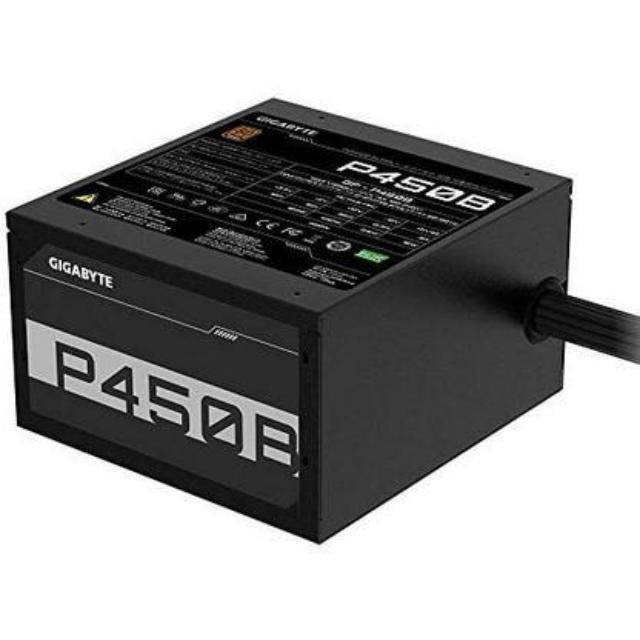PSU: (3, 90, 594, 556)
